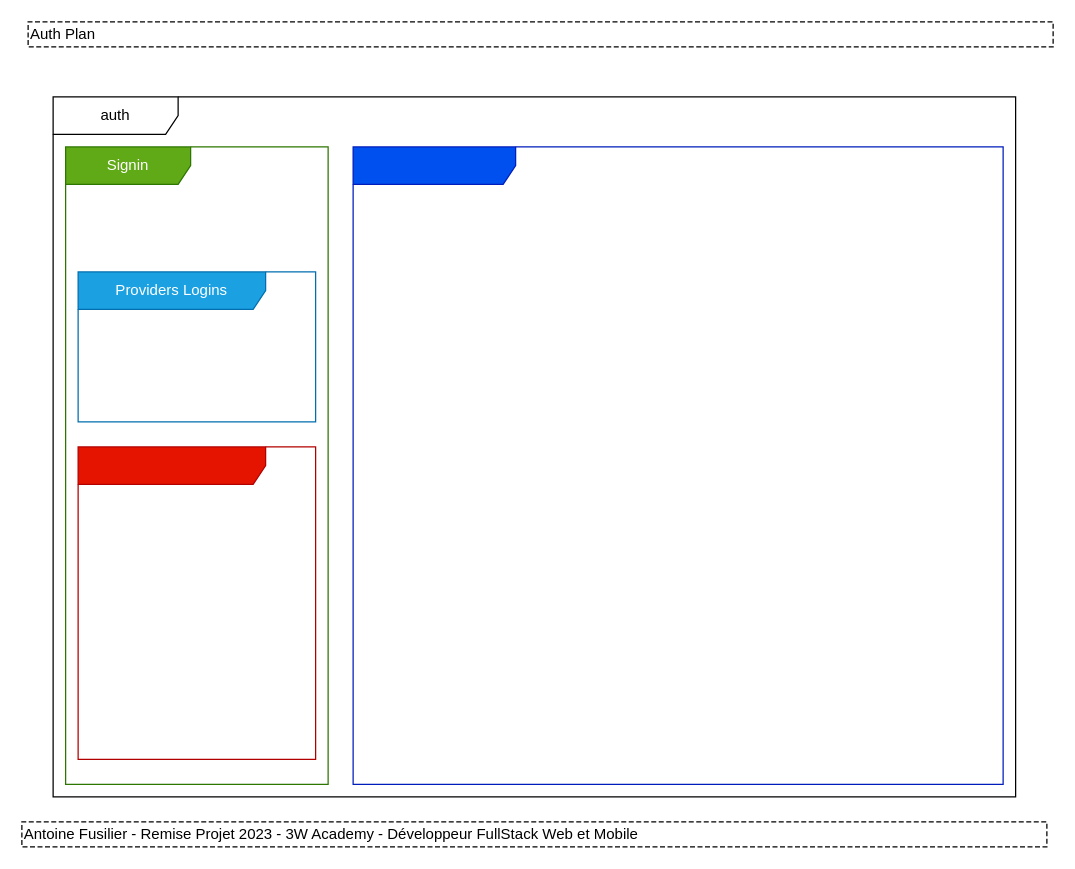
The diagram is 1075 pixels wide and 869 high, and some of its shapes have lost their labels. The shapes that lost their labels are listed below. From the top down, each one's centre as x and y in pixels, then its label:
At pixel 677 465: "Entreprise picture".
At pixel 196 602: "Email Password Login".
